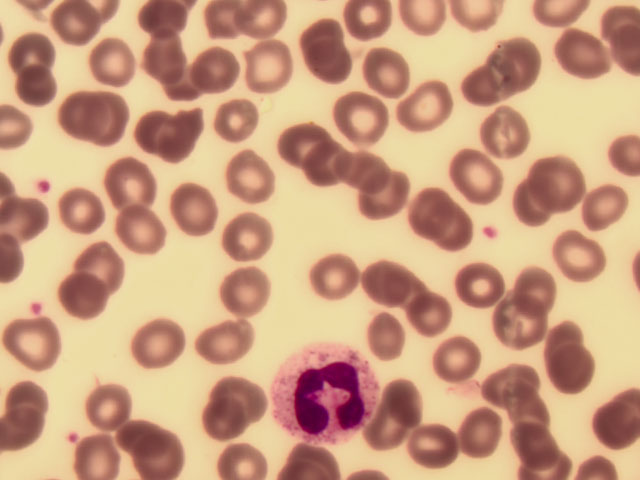Platelets: (35, 175, 53, 198), (483, 221, 499, 243), (31, 299, 46, 319), (68, 429, 79, 446)
RBC: (328, 92, 395, 143), (399, 184, 466, 235), (452, 147, 519, 198), (469, 104, 536, 155), (450, 63, 517, 114), (489, 33, 556, 84), (396, 74, 463, 125), (547, 30, 614, 81), (534, 149, 601, 200), (506, 180, 573, 231), (569, 179, 636, 230), (537, 233, 604, 284), (507, 269, 574, 320), (471, 313, 538, 364), (441, 259, 508, 310), (404, 287, 471, 338), (355, 265, 422, 316), (297, 260, 364, 311), (344, 303, 411, 354), (390, 382, 457, 433), (367, 410, 434, 461), (397, 429, 464, 480), (444, 405, 511, 456), (476, 349, 543, 400), (483, 382, 550, 433), (494, 423, 561, 474), (573, 395, 640, 446), (538, 350, 605, 401), (533, 306, 600, 357), (191, 397, 258, 448), (207, 369, 274, 420), (128, 429, 195, 480), (98, 416, 165, 467), (89, 376, 156, 427), (1, 393, 52, 458), (5, 23, 54, 77), (10, 60, 59, 114), (56, 90, 105, 144), (93, 93, 142, 147), (89, 39, 138, 93), (142, 31, 191, 85), (193, 45, 242, 99), (155, 63, 204, 117), (124, 99, 173, 153), (155, 103, 204, 157), (106, 154, 155, 208), (62, 185, 111, 239), (115, 205, 164, 259), (79, 234, 128, 288), (61, 266, 110, 320), (5, 320, 54, 374), (129, 321, 178, 375), (198, 321, 247, 375), (226, 265, 275, 319), (224, 210, 273, 264), (225, 147, 274, 201), (164, 179, 213, 233), (210, 90, 259, 144), (245, 35, 294, 89), (294, 7, 343, 61), (315, 36, 364, 90), (350, 42, 399, 96), (279, 114, 328, 168), (296, 140, 345, 194), (338, 149, 387, 203), (357, 166, 406, 220), (53, 1, 102, 54), (136, 1, 185, 54)
WBC: (270, 347, 380, 441)
